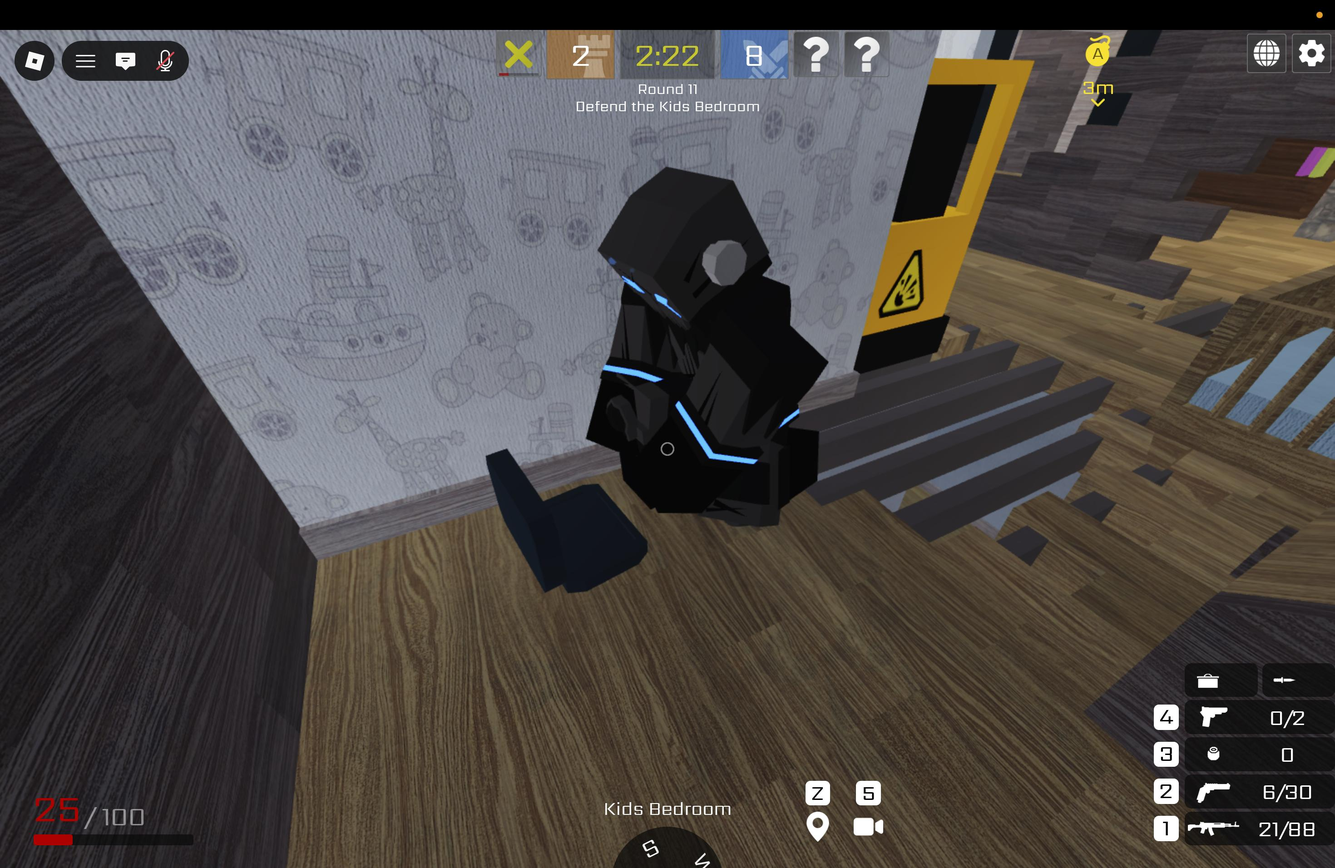enemy: (578, 164, 832, 536)
